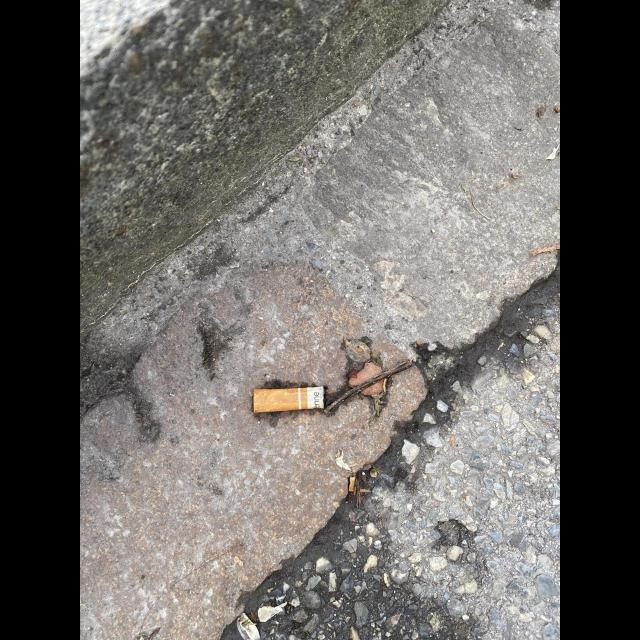cigarette: (253, 386, 326, 414)
